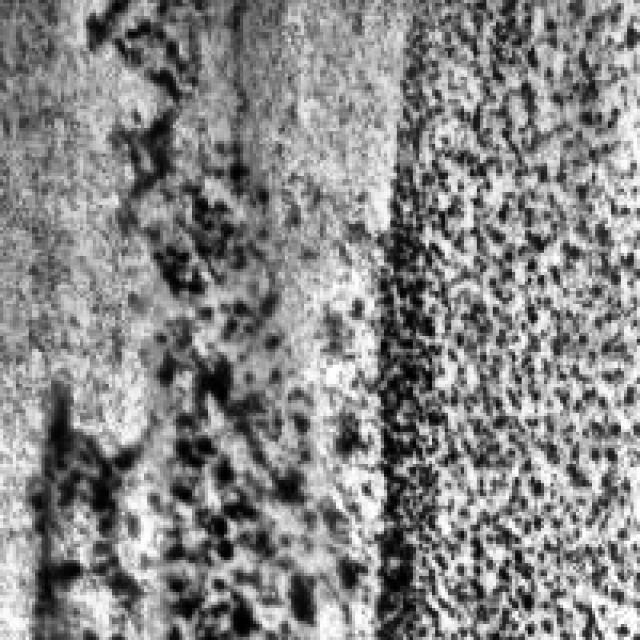Rolled_in_Scale: (26, 0, 352, 637), (371, 0, 637, 637)
